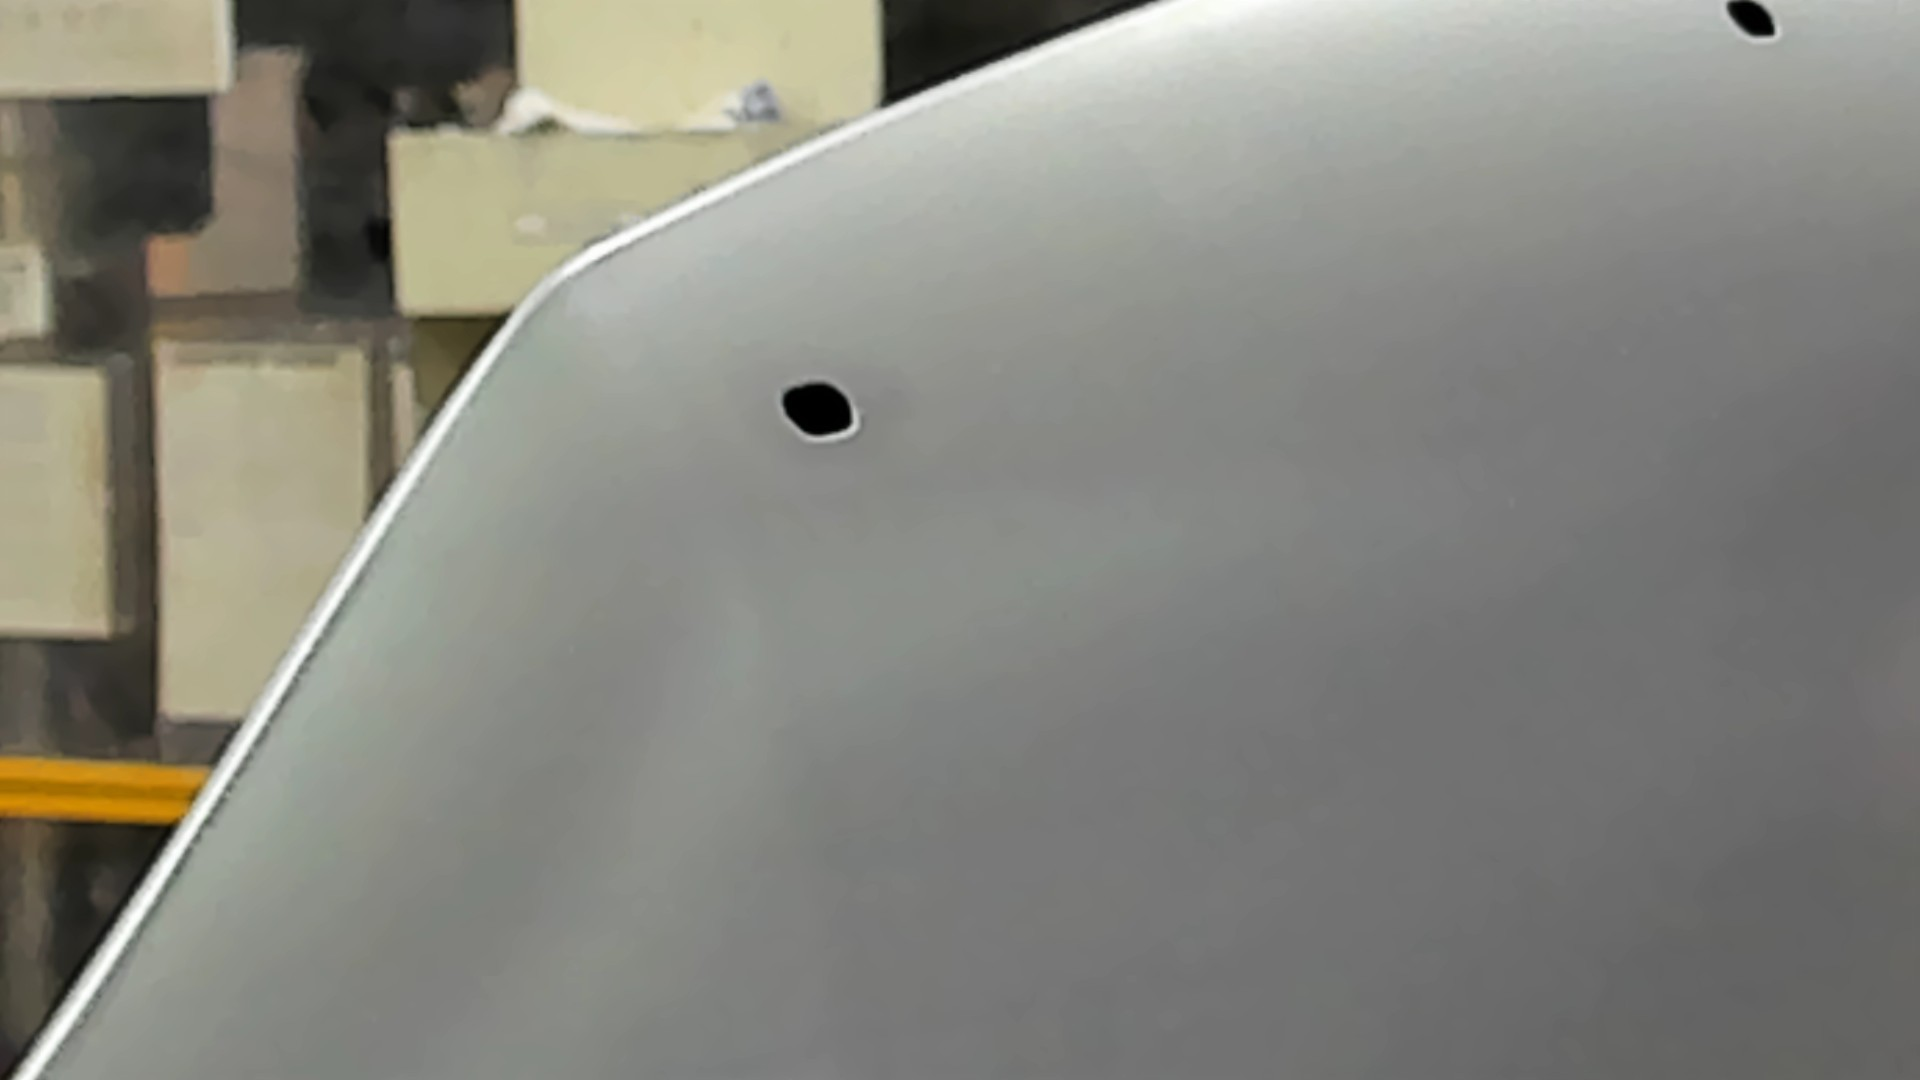amorfo: (773, 376, 862, 448), (1714, 1, 1791, 51)
capo: (940, 146, 1920, 1080)
